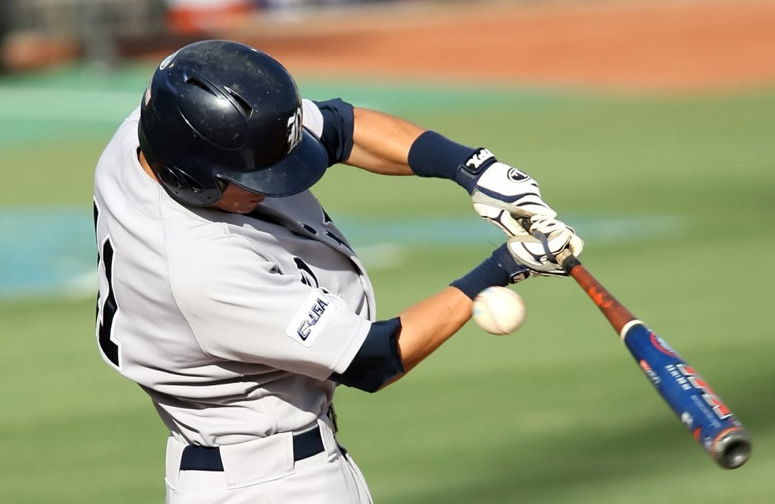ball: (468, 285, 528, 337)
